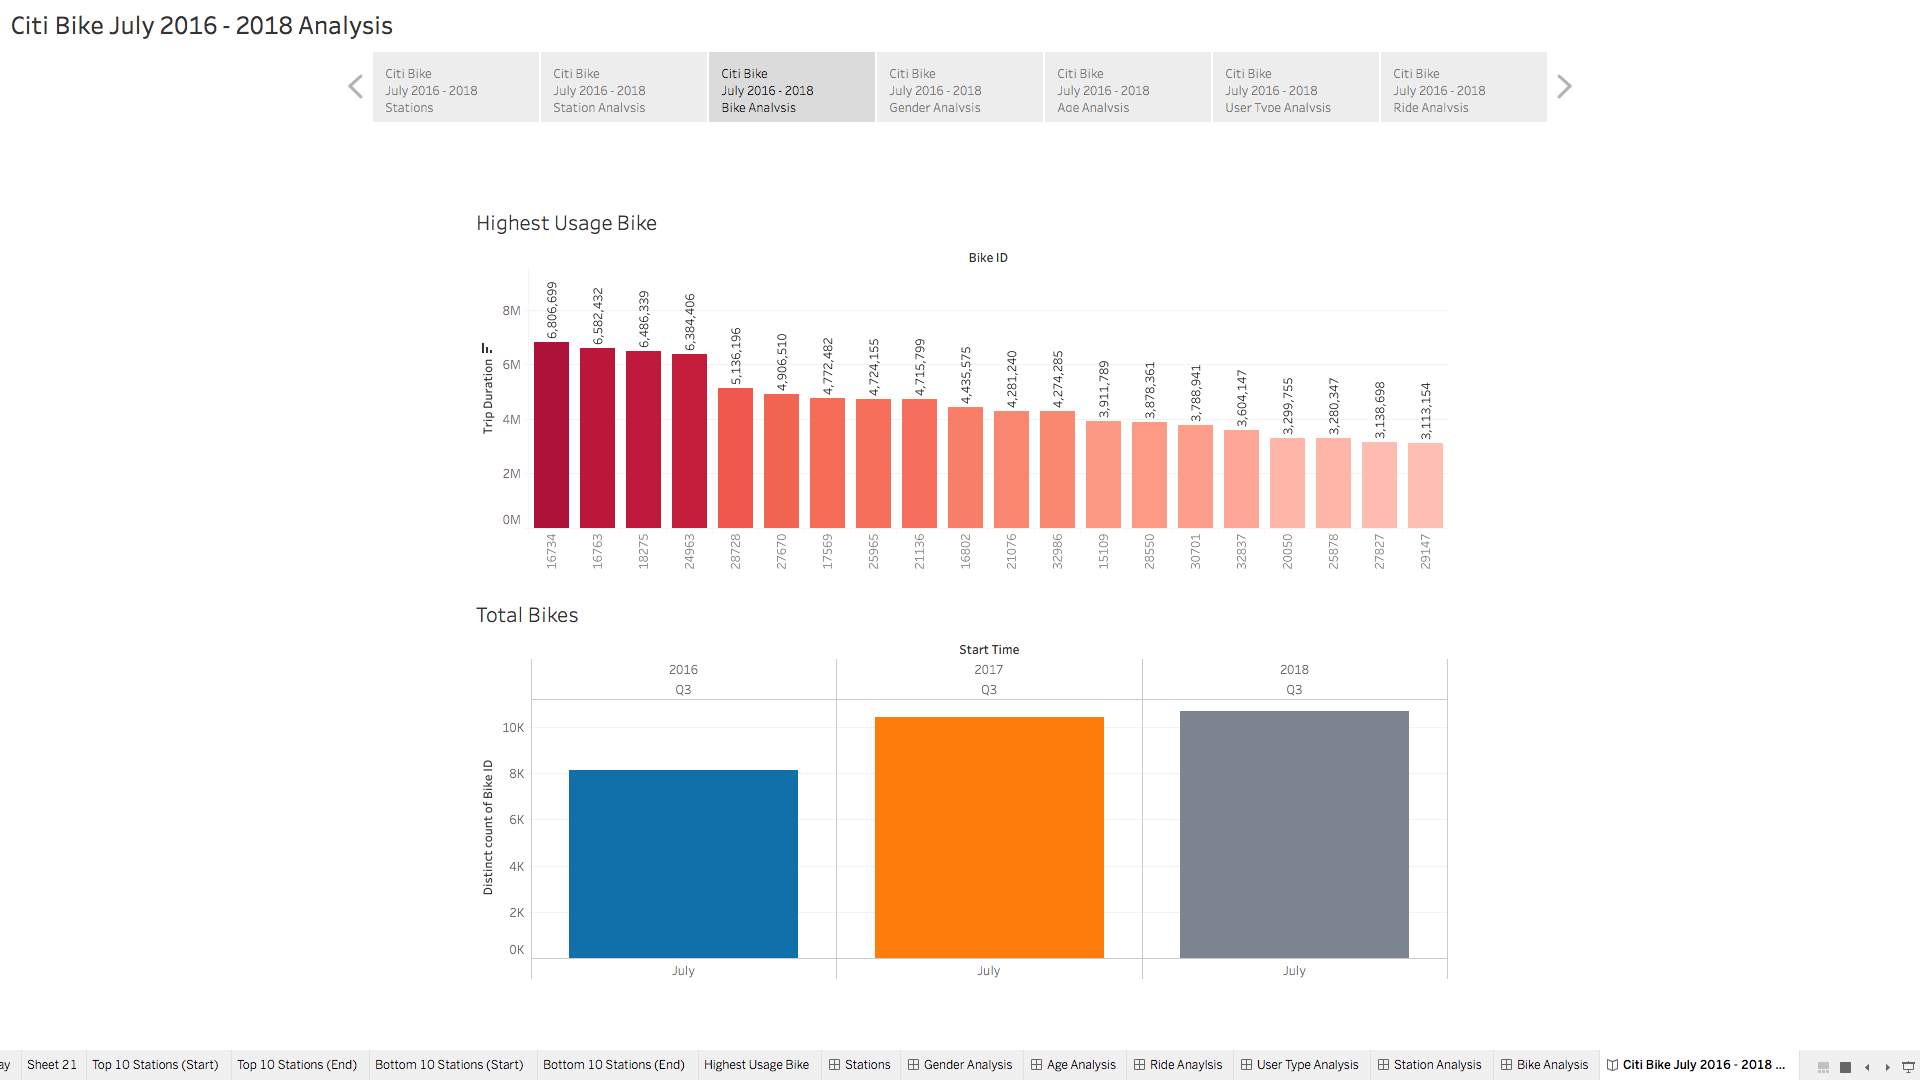

This screenshot's page, from the dashboard's own definition file:
{"tool":"tableau","page":{"name":"Bike Analysis","canvas":[1000,800],"ordinal":1},"visuals":[{"type":"worksheet","title":"Highest Usage Bike","mark":"Automatic","rows":["Trip Duration"],"cols":["Bike ID"],"box":[8,8,984,392]},{"type":"worksheet","title":"Total Bikes","mark":"Bar","rows":["Bike ID"],"cols":["Start Time","Start Time","Start Time"],"box":[8,400,984,392]}]}

Visuals, with their boxes on the page's 1000x800 design canvas (x1, y1, x2, y2). These are canvas units, not pixel positions in the 1920x1080 screenshot, which may show the page scaled, cropped or inside an application window:
"Highest Usage Bike" worksheet: [x1=8, y1=8, x2=992, y2=400]
"Total Bikes" worksheet (Bar marks): [x1=8, y1=400, x2=992, y2=792]
